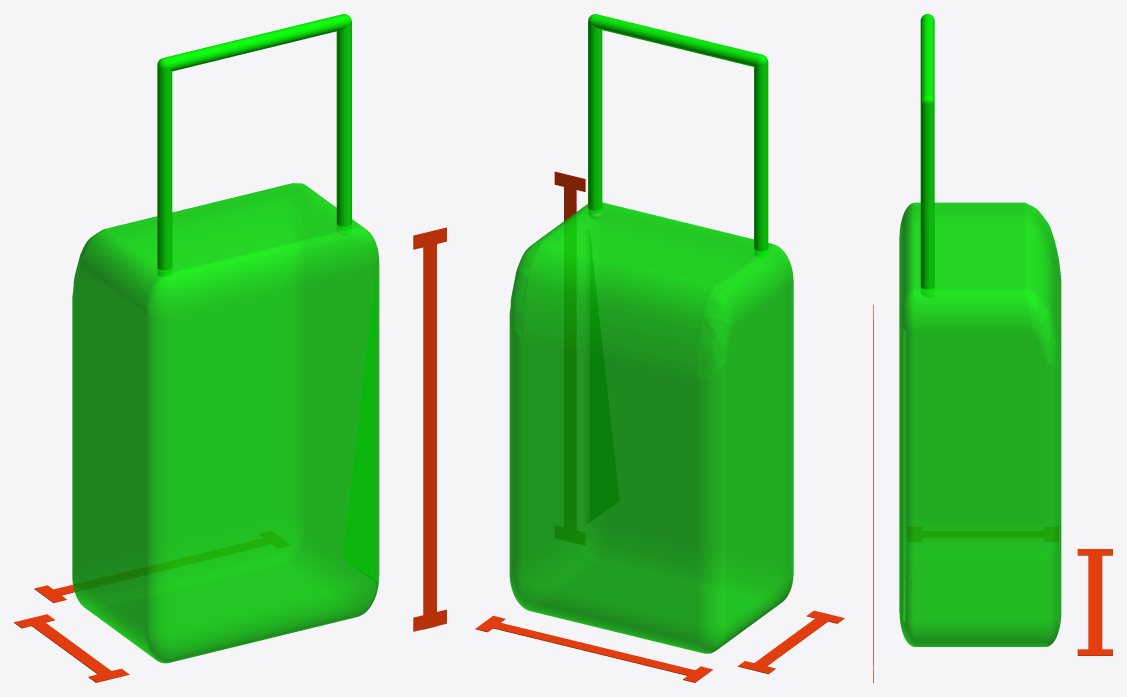
Rendered from suitcase_green.obj.
3 views of the same model, side by side, from view 1: azimuth 30°, elevation 25°; view 2: azimuth 150°, elevation 25°; view 3: azimuth 270°, elevation 25° (orthographic). The views are drawn at different scales.
Visible parts, largest first — view 1: Cube, Sphere, ruler_z_Plane.002, ruler_x_Plane.005; view 2: Cube, Sphere, ruler_y_Plane.007, ruler_x_Plane.005, ruler_z_Plane.002; view 3: Cube, Sphere, ruler_y_Plane.007, ruler_z_Plane.002.
Boxes of the visible parts, box(x1,y1,x2,y2) form: Cube: box(72, 183, 379, 663); Sphere: box(157, 14, 351, 276); ruler_z_Plane.002: box(413, 227, 446, 631); ruler_x_Plane.005: box(14, 614, 129, 682); Cube: box(509, 202, 793, 653); Sphere: box(588, 14, 768, 257); ruler_y_Plane.007: box(475, 615, 712, 682); ruler_x_Plane.005: box(738, 610, 844, 673); ruler_z_Plane.002: box(554, 171, 585, 221); Cube: box(899, 202, 1061, 646); Sphere: box(920, 14, 934, 295); ruler_y_Plane.007: box(1077, 549, 1112, 655); ruler_z_Plane.002: box(873, 304, 873, 682).
Size of the model in its own units: 0.4995 by 0.8708 by 0.3405.
